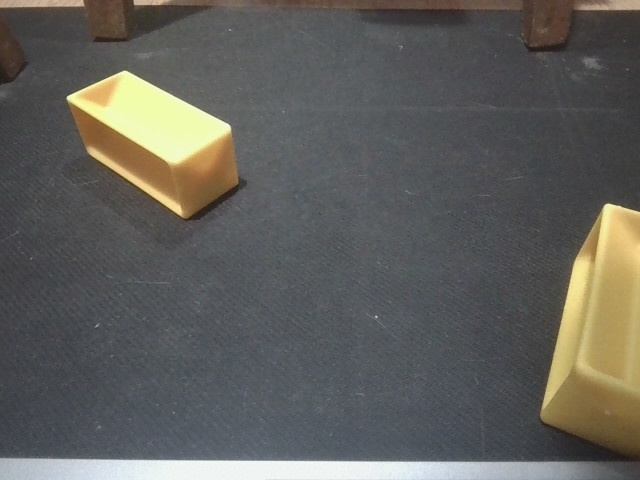YellowSample: (62, 67, 241, 220), (537, 202, 640, 460)
